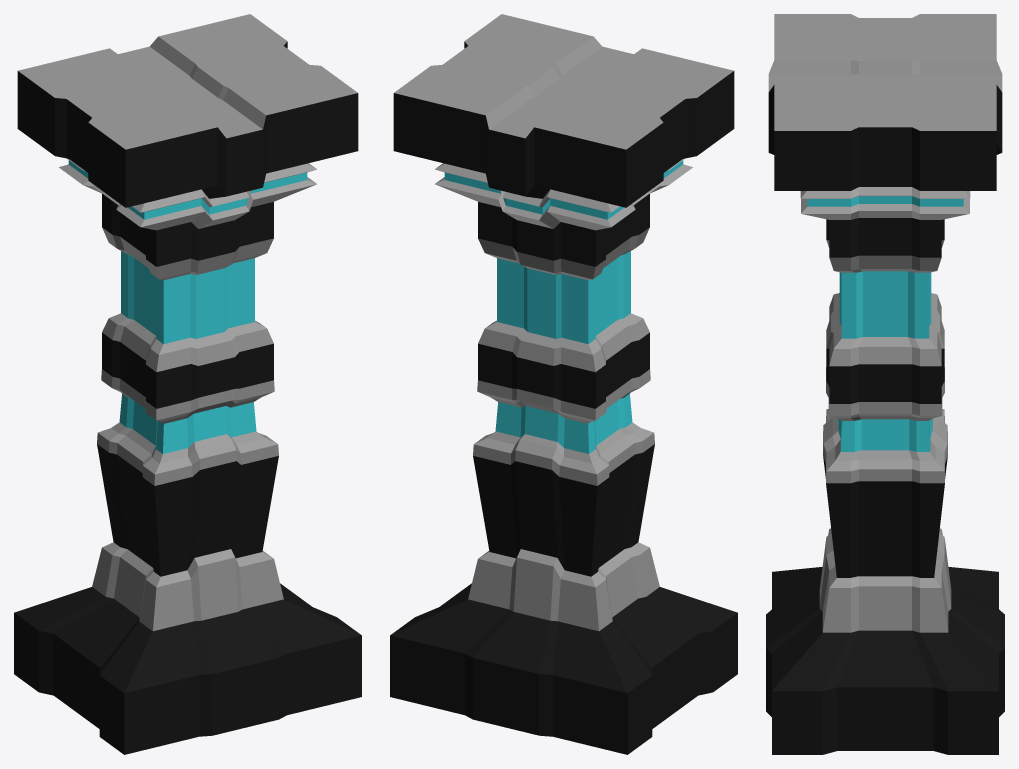
Rendered from Pillar.fbx.
The picture shows the model from 3 angles, left to right: view 1: azimuth 30°, elevation 25°; view 2: azimuth 150°, elevation 25°; view 3: azimuth 270°, elevation 25°; orthographic projection. The views are drawn at different scales.
Parts seen in each view (by area): view 1: Cube; view 2: Cube; view 3: Cube.
Boxes of the visible parts, x1=… form: Cube: x1=14, y1=14, x2=361, y2=754; Cube: x1=390, y1=14, x2=737, y2=754; Cube: x1=766, y1=14, x2=1004, y2=754.
Size of the model in its own units: 503 by 1221 by 424.
